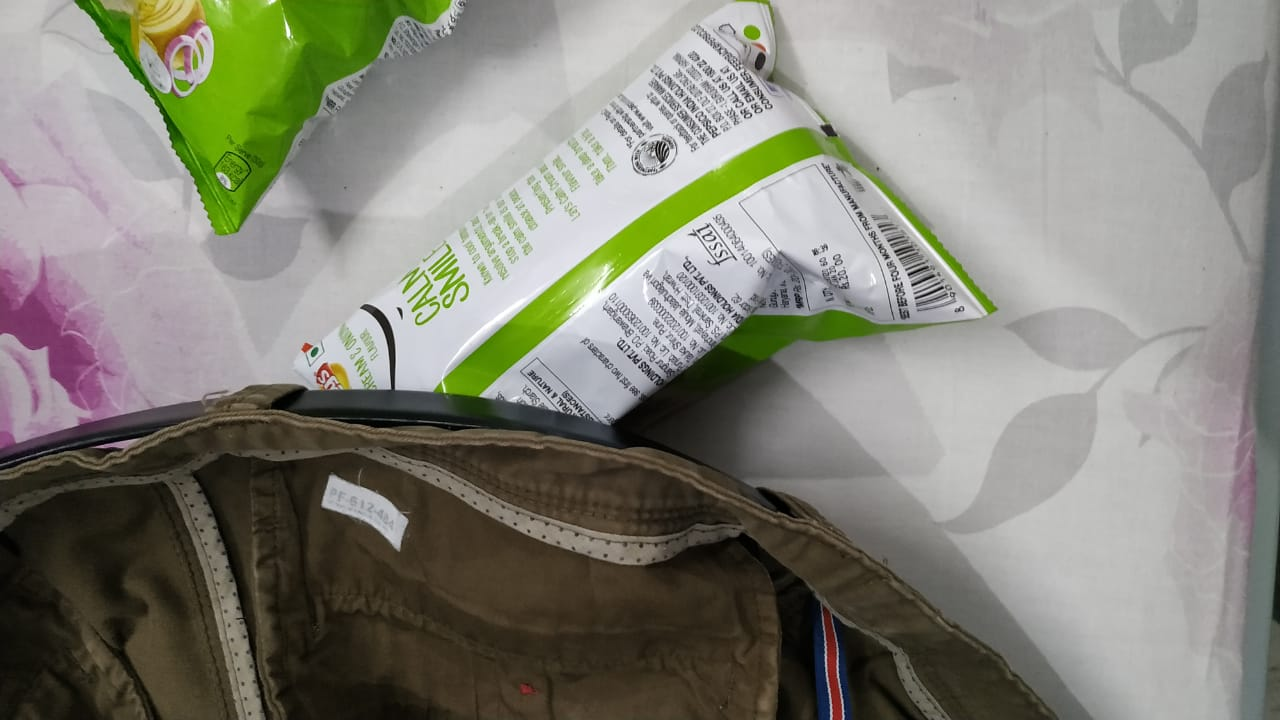perk: (311, 12, 1016, 456)
